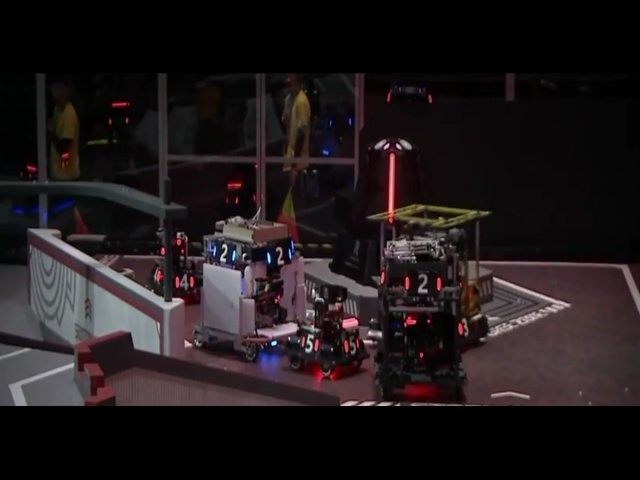bluePlate: (243, 204, 286, 229), (387, 349, 413, 369), (263, 130, 285, 153), (125, 295, 144, 313)
redPlate: (267, 330, 321, 362), (341, 320, 358, 350)
